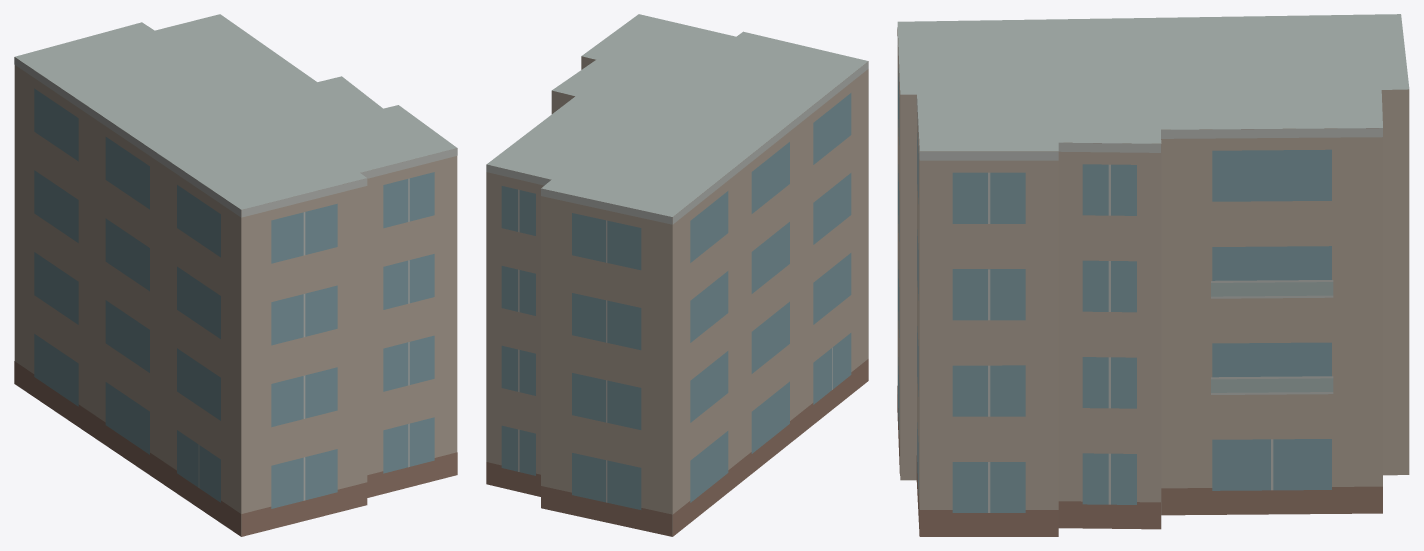
File: survey-upis-32505929.glb
The picture shows the model from 3 angles, left to right: view 1: azimuth 30°, elevation 25°; view 2: azimuth 150°, elevation 25°; view 3: azimuth 270°, elevation 25°; orthographic projection. The views are drawn at different scales.
Visible parts, largest first — view 1: survey-upis-32505929.tmp; view 2: survey-upis-32505929.tmp; view 3: survey-upis-32505929.tmp.
Boxes of the visible parts, x1,y1,x2,y2 form: survey-upis-32505929.tmp: (14, 14, 457, 536); survey-upis-32505929.tmp: (486, 14, 868, 536); survey-upis-32505929.tmp: (897, 14, 1409, 536).
Size of the model in its own units: 7.85 by 10.25 by 12.35.
